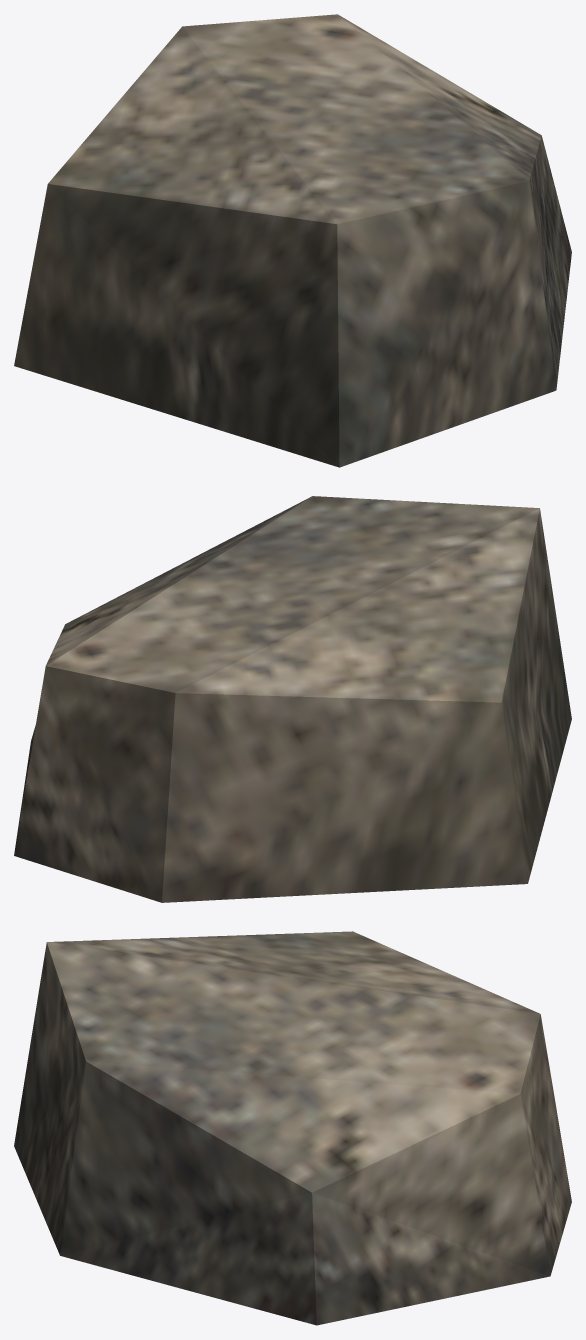
File: Rock1C.FBX
3 renders of one model, top to bottom at view 1: azimuth 30°, elevation 25°; view 2: azimuth 150°, elevation 25°; view 3: azimuth 270°, elevation 25°, orthographic. The views are drawn at different scales.
Visible parts, largest first — view 1: Rock1C; view 2: Rock1C; view 3: Rock1C.
Boxes of the visible parts, x1,y1,x2,y2 form: Rock1C: (14, 14, 571, 467); Rock1C: (14, 496, 571, 902); Rock1C: (14, 931, 571, 1325).
Bounding box in the file's own units: 1.2 × 0.6908 × 1.16.
